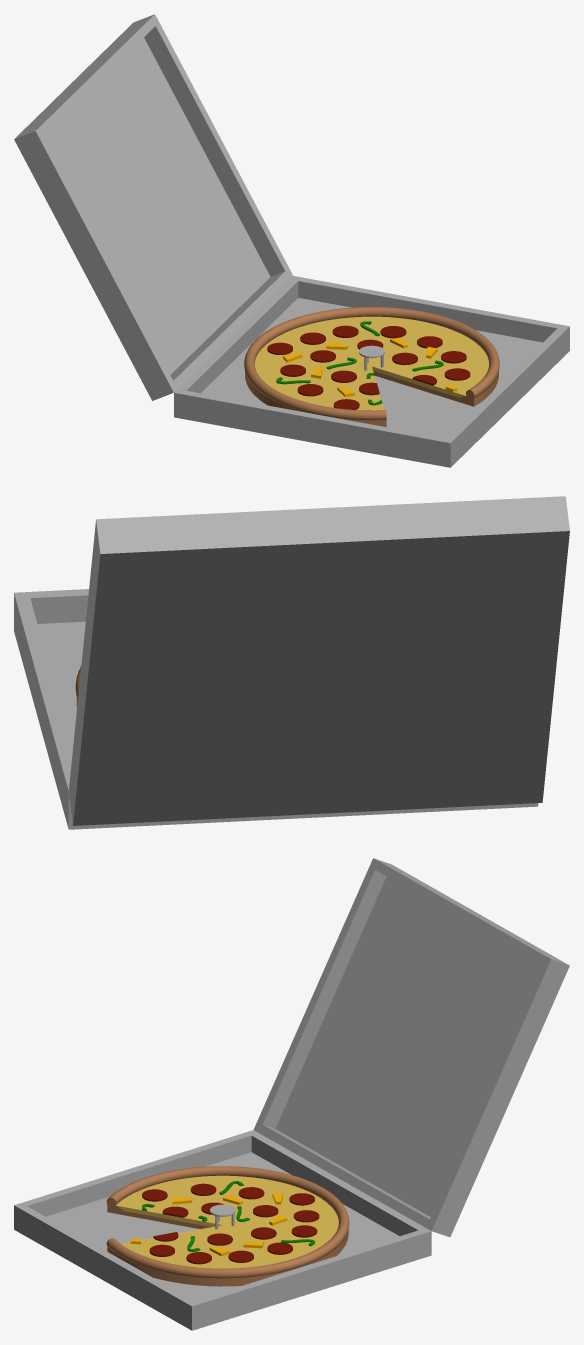
File: pizza.fbx
3 renders of one model, top to bottom at view 1: azimuth 30°, elevation 25°; view 2: azimuth 150°, elevation 25°; view 3: azimuth 270°, elevation 25°, orthographic. The views are drawn at different scales.
Parts seen in each view (by area): view 1: Box, Pizza, Crust_2, Peperoni, pineapple_2, green pepper_2; view 2: Box; view 3: Box, Pizza, Crust_2, Peperoni, pineapple_2.
Part boxes in pixels (bbox=[...]): Box: bbox=[14, 14, 569, 467]; Pizza: bbox=[254, 316, 488, 410]; Crust_2: bbox=[244, 307, 499, 426]; Peperoni: bbox=[267, 325, 470, 409]; pineapple_2: bbox=[283, 337, 457, 397]; green pepper_2: bbox=[276, 321, 443, 405]; Box: bbox=[14, 496, 569, 829]; Box: bbox=[14, 858, 569, 1330]; Pizza: bbox=[116, 1175, 338, 1268]; Crust_2: bbox=[106, 1166, 349, 1286]; Peperoni: bbox=[142, 1183, 319, 1264]; pineapple_2: bbox=[130, 1193, 287, 1256].
Bounding box in the file's own units: 3.49 × 1.91 × 3.73.
